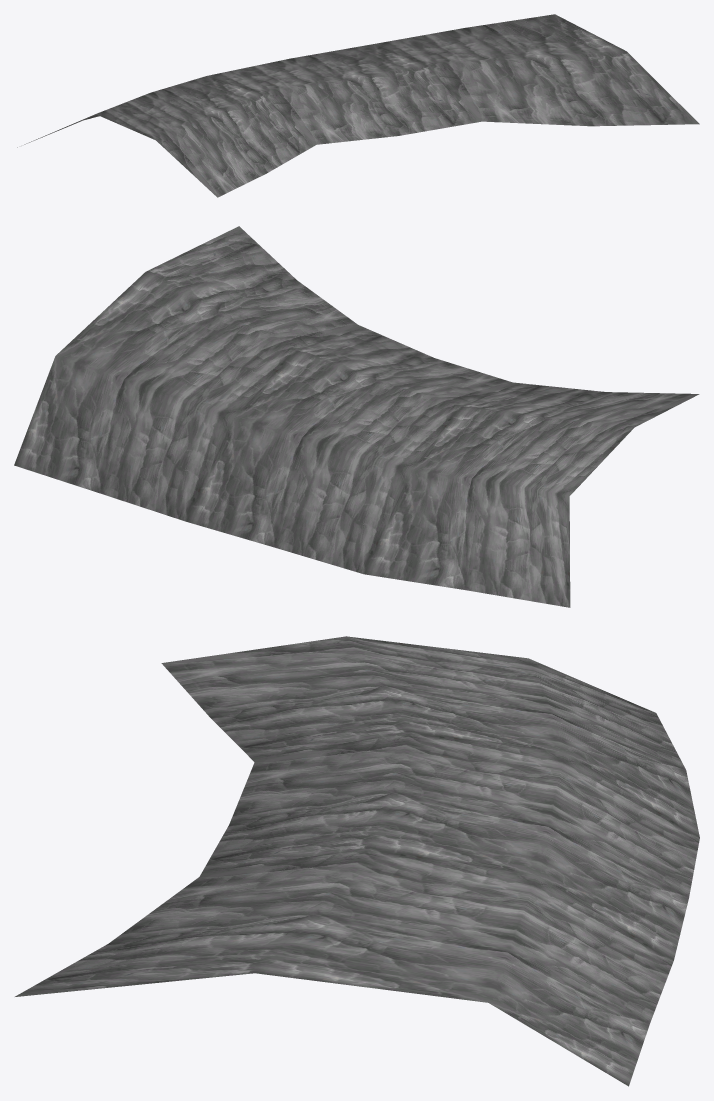
Rendered from SWORDLIGHT20_PS-AREA04_18.fbx.
The picture shows the model from 3 angles, top to bottom: view 1: azimuth 30°, elevation 25°; view 2: azimuth 150°, elevation 25°; view 3: azimuth 270°, elevation 25°; orthographic projection. The views are drawn at different scales.
Visible parts, largest first — view 1: SWORDLIGHT20_PS-AREA04_18; view 2: SWORDLIGHT20_PS-AREA04_18; view 3: SWORDLIGHT20_PS-AREA04_18.
Part boxes in pixels (x1,y1,x2,y2): SWORDLIGHT20_PS-AREA04_18: (17, 14, 699, 197); SWORDLIGHT20_PS-AREA04_18: (14, 226, 699, 607); SWORDLIGHT20_PS-AREA04_18: (15, 636, 699, 1086).
Bounding box in the file's own units: 135270 × 19916 × 104199.
Materials: 1 (1 with a texture image).
